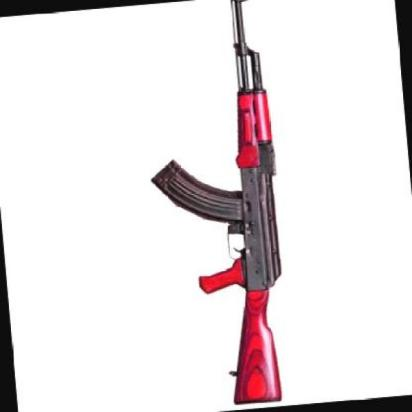Gun: (137, 0, 328, 412)
